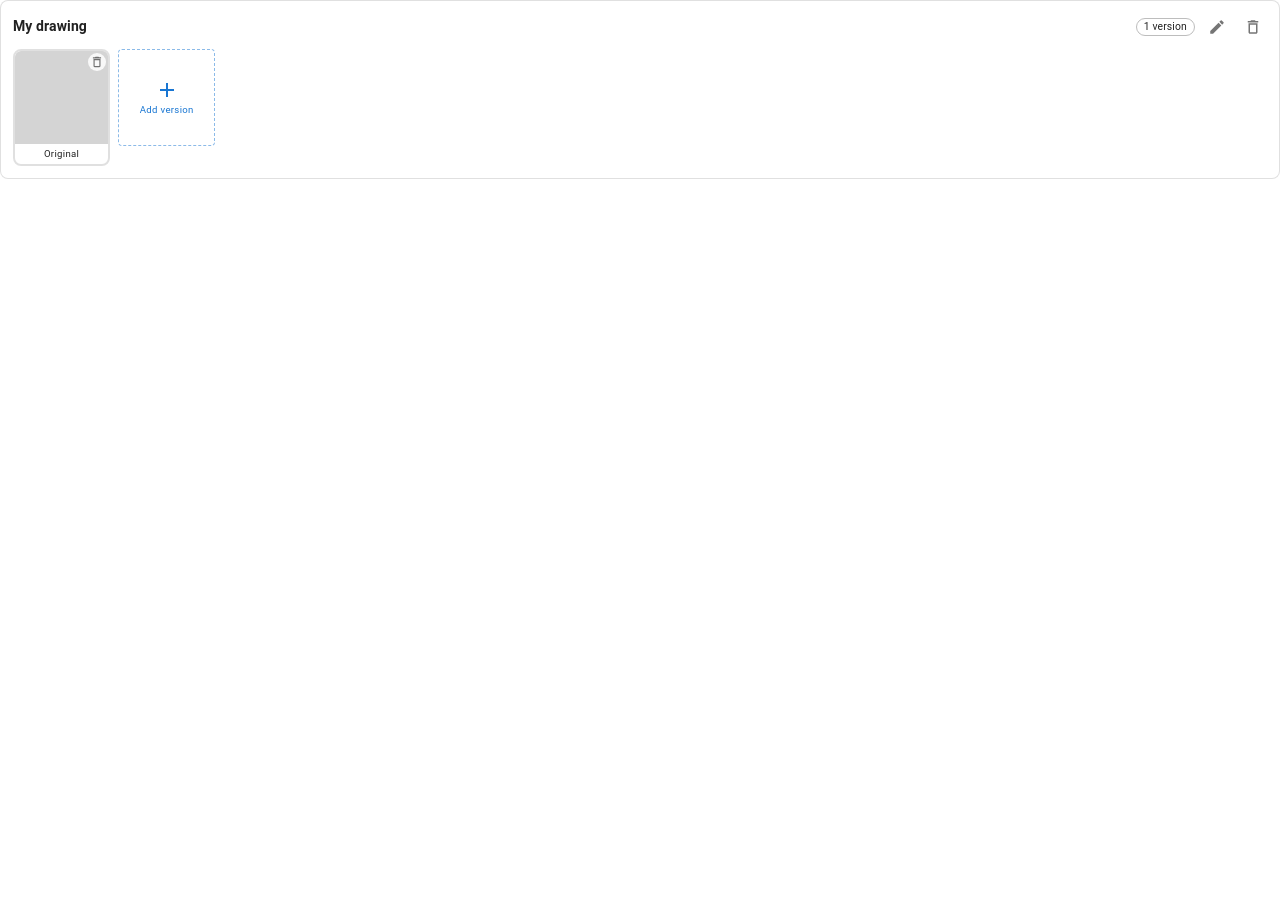
Scenario: DrawingGroupCard — weekly art cap (FEAT-165 / UX-95) › never waits on the counter: a write that hangs still closes the picker and refreshes the card
Click the button "Add version" at (167, 98), box [118, 49, 215, 146]
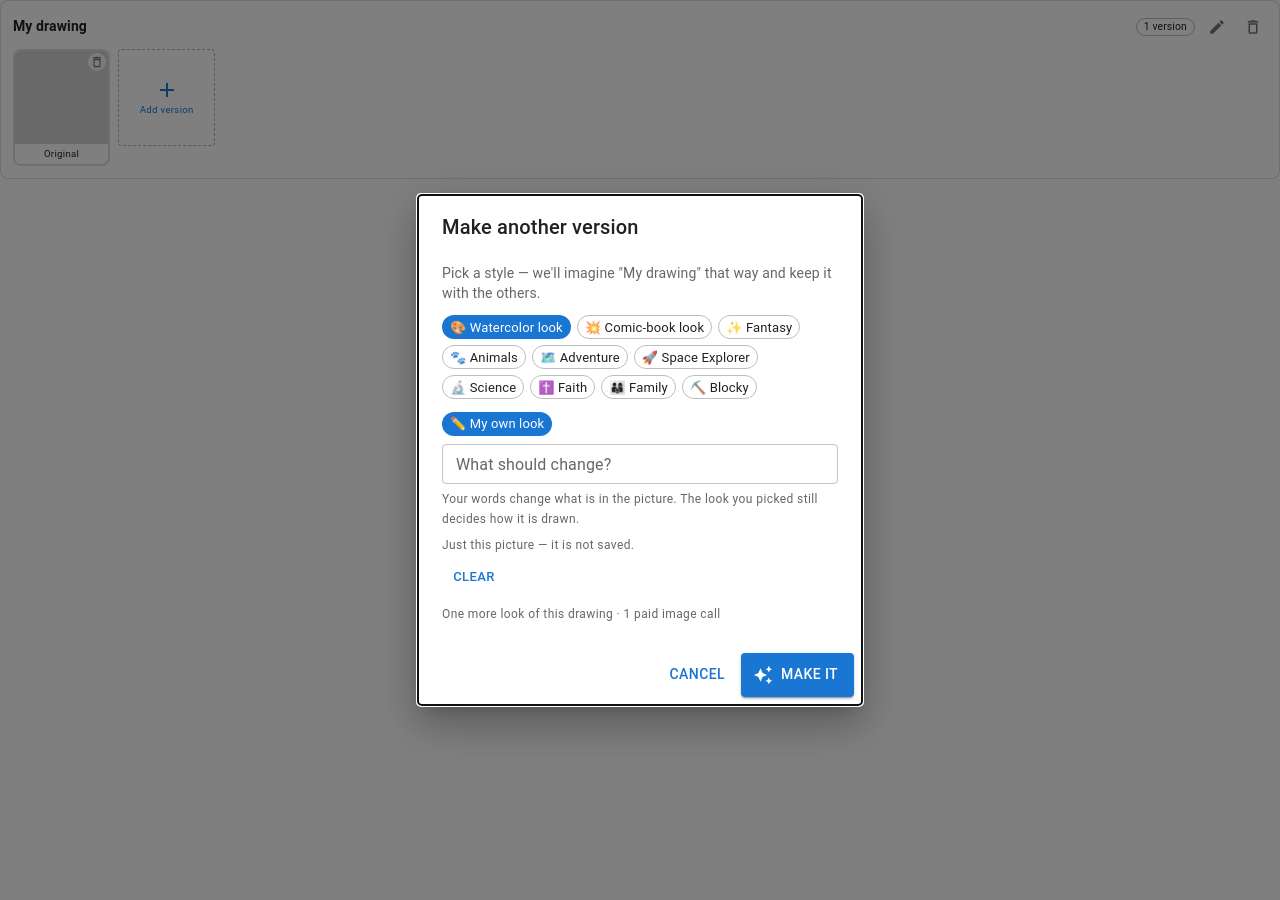
Click the button "Make it" at (798, 675), box [741, 653, 854, 697]
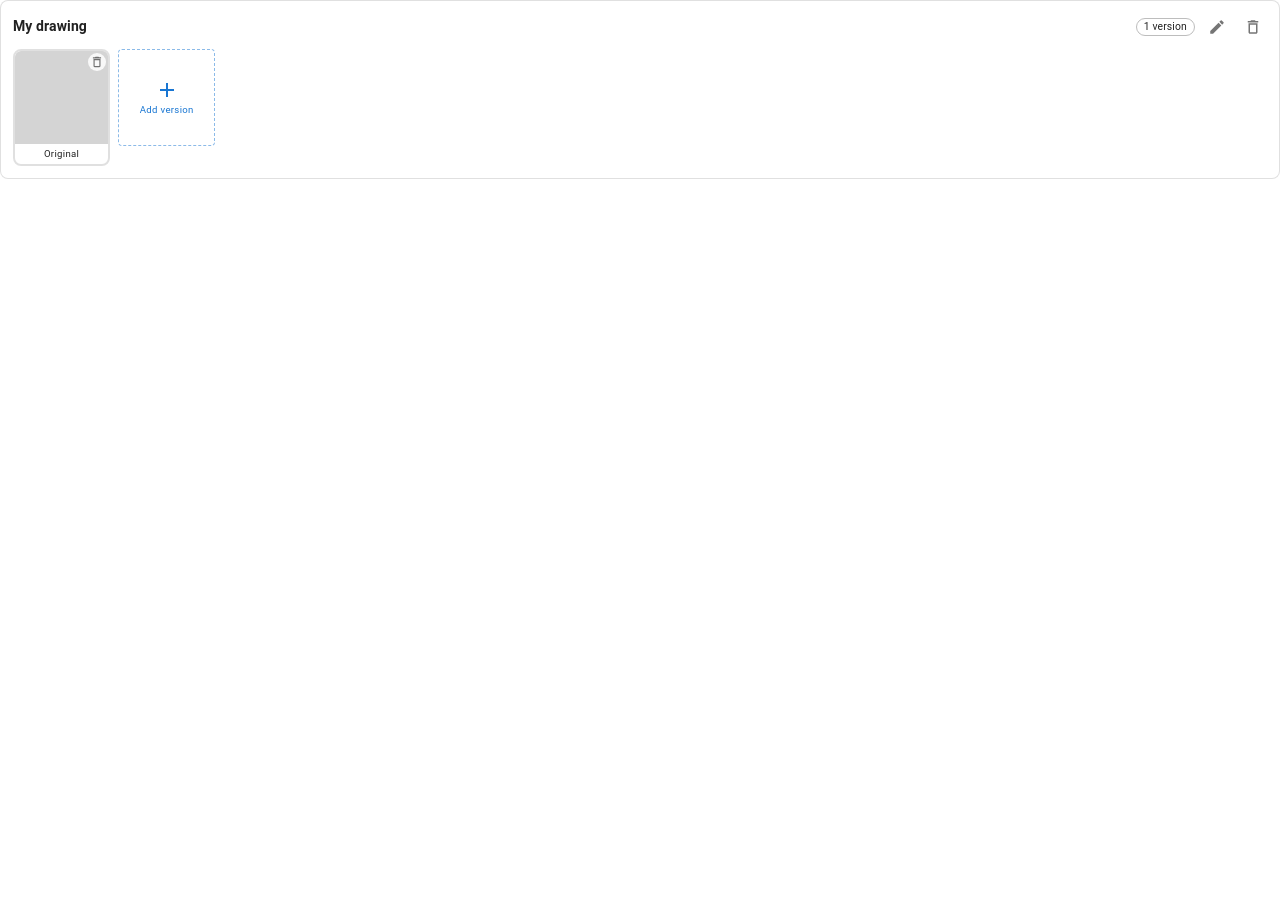
Expected: the heading "Make another version" is gone
Click the button "Add version" at (167, 98), box [118, 49, 215, 146]
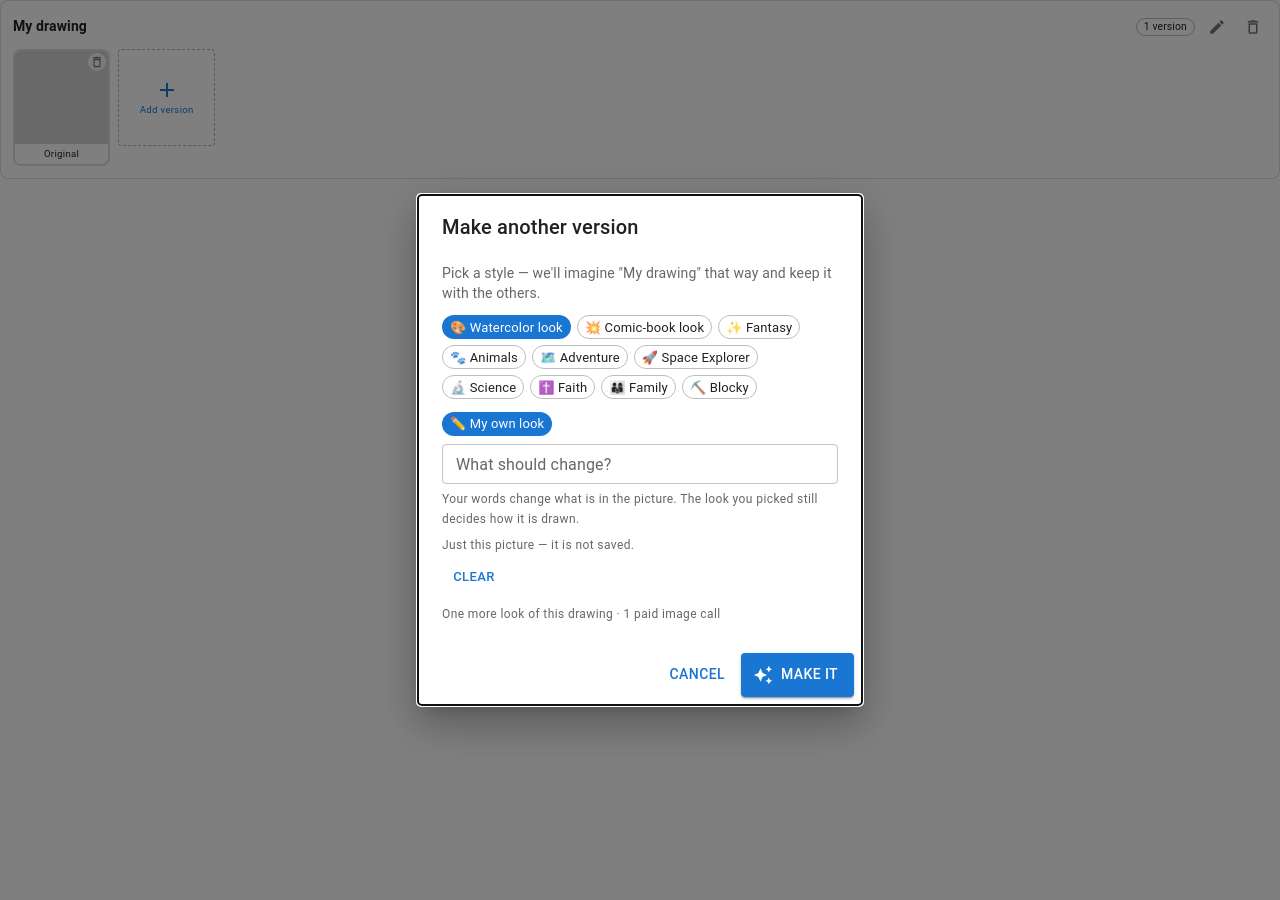
Expected: the button "Make it" is enabled, [741, 653, 854, 697]
